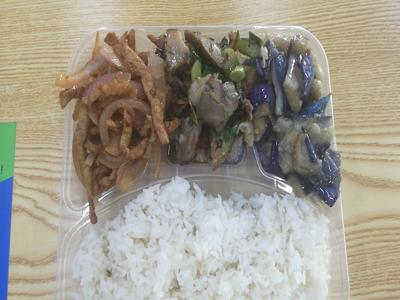rice: (92, 197, 344, 300)
sqz: (241, 32, 350, 203)
